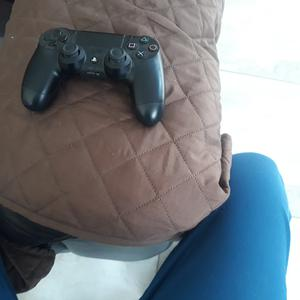controller: (21, 26, 164, 126)
